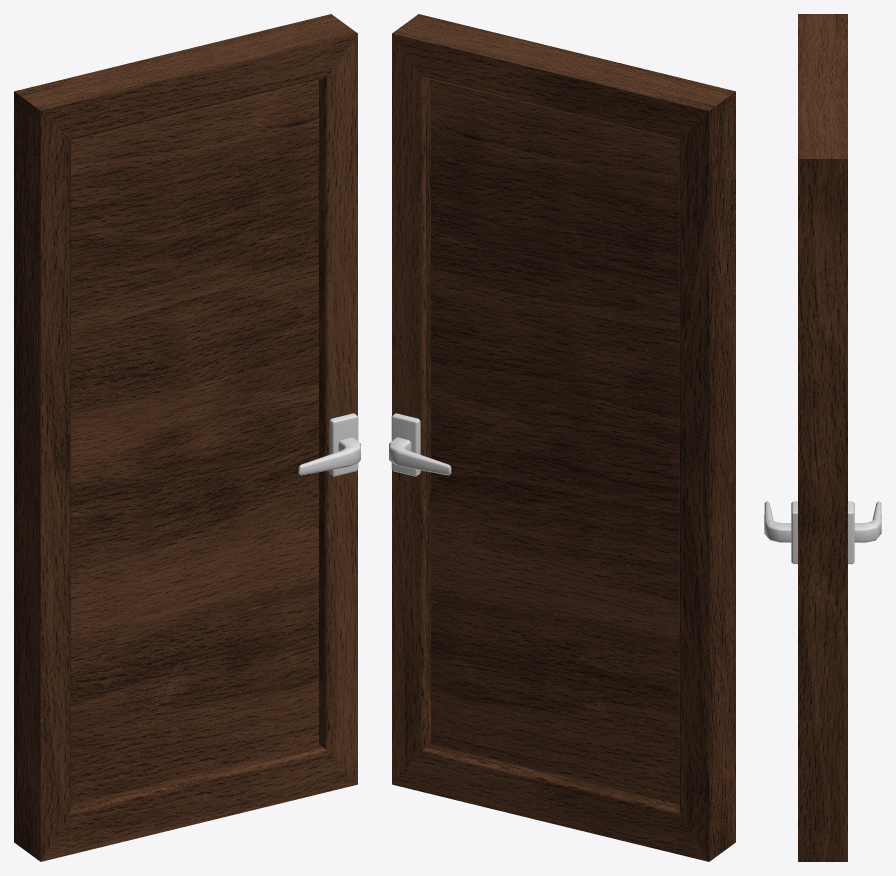
Rendered from door_016.fbx.
3 renders of one model, left to right at view 1: azimuth 30°, elevation 25°; view 2: azimuth 150°, elevation 25°; view 3: azimuth 270°, elevation 25°, orthographic. The views are drawn at different scales.
Visible parts, largest first — view 1: door_016; view 2: door_016; view 3: door_016.
Boxes of the visible parts, box(x1,y1,x2,y2) form: door_016: box(14, 14, 360, 861); door_016: box(389, 14, 735, 861); door_016: box(764, 14, 881, 861).
Size of the model in its own units: 95.15 by 32.58 by 215.
